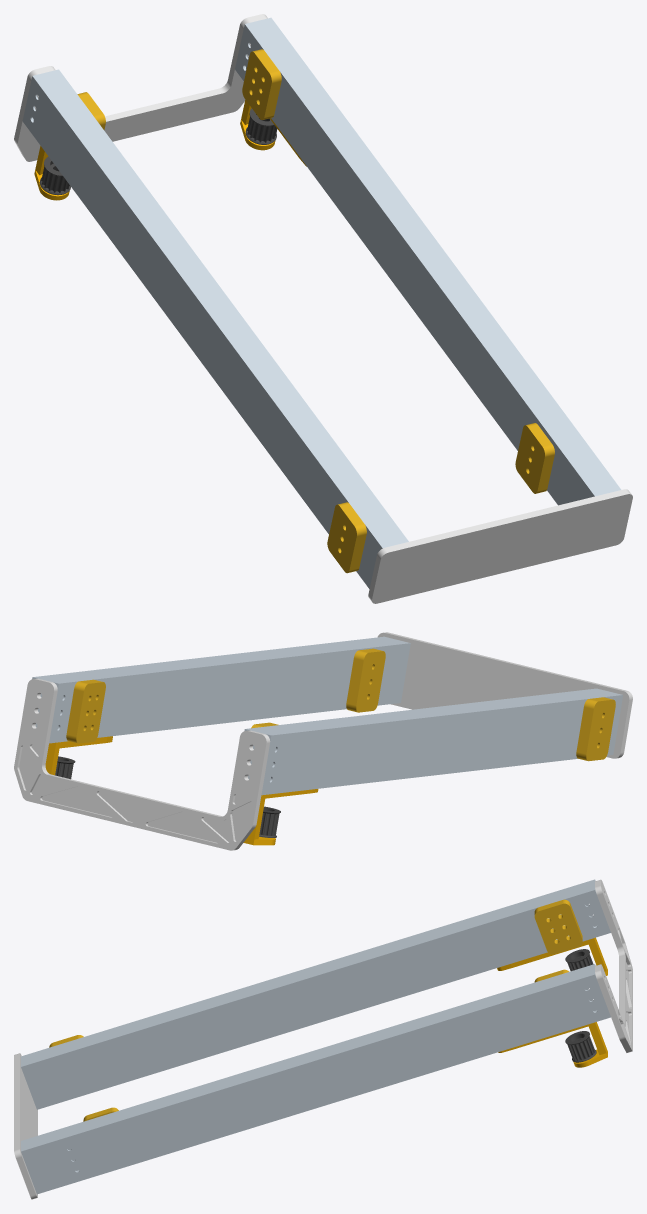
3 views of the same model, one above another, from view 1: azimuth 30°, elevation 25°; view 2: azimuth 150°, elevation 25°; view 3: azimuth 270°, elevation 25° (orthographic). The views are drawn at different scales.
Parts seen in each view (by area): view 1: Tube 2"x1"x24.25" (×2), 4255-25-P-0102-AL, Part 73, Part 63, 4255-25-P-0112-A36S, 4255-25-P-0113-A36S; view 2: Tube 2"x1"x24.25" (×2), Part 73, 4255-25-P-0102-AL, 4255-25-P-0113-A36S, 4255-25-P-0112-A36S, Part 63, Part 66 (×2), 16t HTD Pulley 18.5mm Wide (×2); view 3: Tube 2"x1"x24.25" (×2), Part 73, 4255-25-P-0102-AL, Part 61, Part 66 (×2), 16t HTD Pulley 18.5mm Wide.
Part boxes in pixels (<box>): Tube 2"x1"x24.25" (×2): <box>22,17,621,588</box>; 4255-25-P-0102-AL: <box>368,489,632,603</box>; Part 73: <box>14,14,267,161</box>; Part 63: <box>327,502,366,573</box>; 4255-25-P-0112-A36S: <box>242,49,281,119</box>; 4255-25-P-0113-A36S: <box>515,423,554,493</box>; Tube 2"x1"x24.25" (×2): <box>32,636,622,795</box>; Part 73: <box>14,678,270,850</box>; 4255-25-P-0102-AL: <box>377,632,632,758</box>; 4255-25-P-0113-A36S: <box>346,648,385,712</box>; 4255-25-P-0112-A36S: <box>66,679,105,743</box>; Part 63: <box>576,697,615,761</box>; Part 66 (×2): <box>45,736,318,845</box>; 16t HTD Pulley 18.5mm Wide (×2): <box>55,756,280,837</box>; Tube 2"x1"x24.25" (×2): <box>21,879,610,1194</box>; Part 73: <box>595,879,632,1052</box>; 4255-25-P-0102-AL: <box>14,1053,37,1199</box>; Part 61: <box>534,899,582,954</box>; Part 66 (×2): <box>497,937,607,1067</box>; 16t HTD Pulley 18.5mm Wide: <box>565,1031,596,1062</box>.
Bounding box in the file's own units: 0.2445 × 0.2536 × 0.6287.
